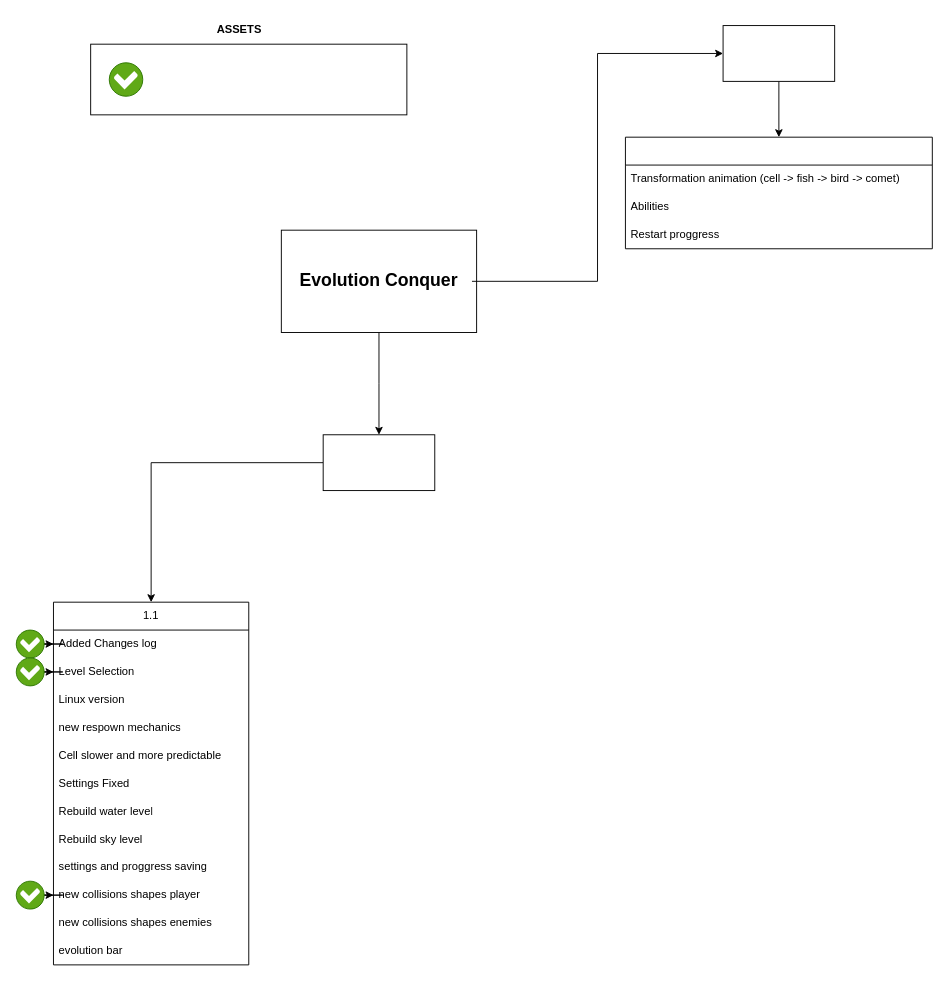
The diagram is 949 pixels wide and 981 high, and some of its shapes have lost their labels. The centre of each missing label's shape, as x and y in pixels:
Ideas: point 778,53
Versions: point 378,462
